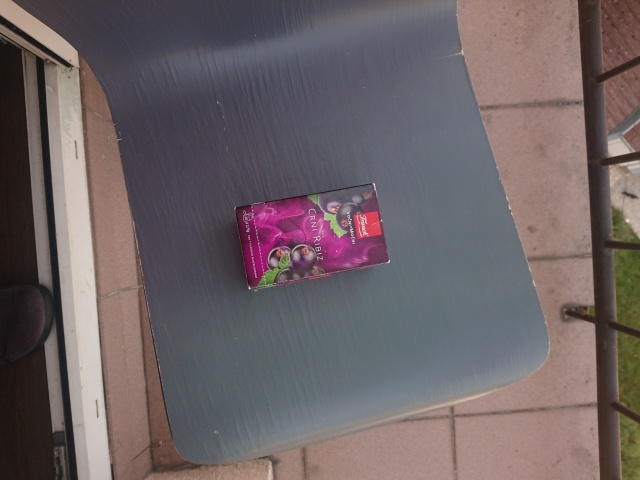Franck Black Currant Tea 60g: (232, 179, 393, 294)
